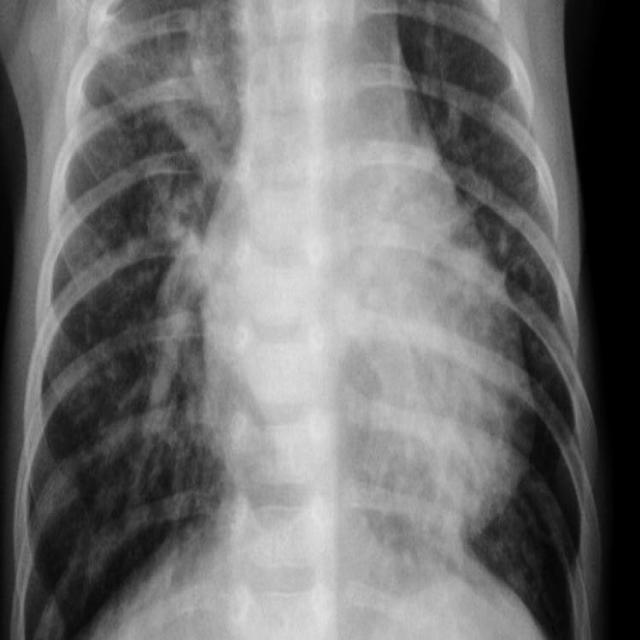low-pneumonia: (100, 1, 246, 216), (140, 202, 208, 454)
